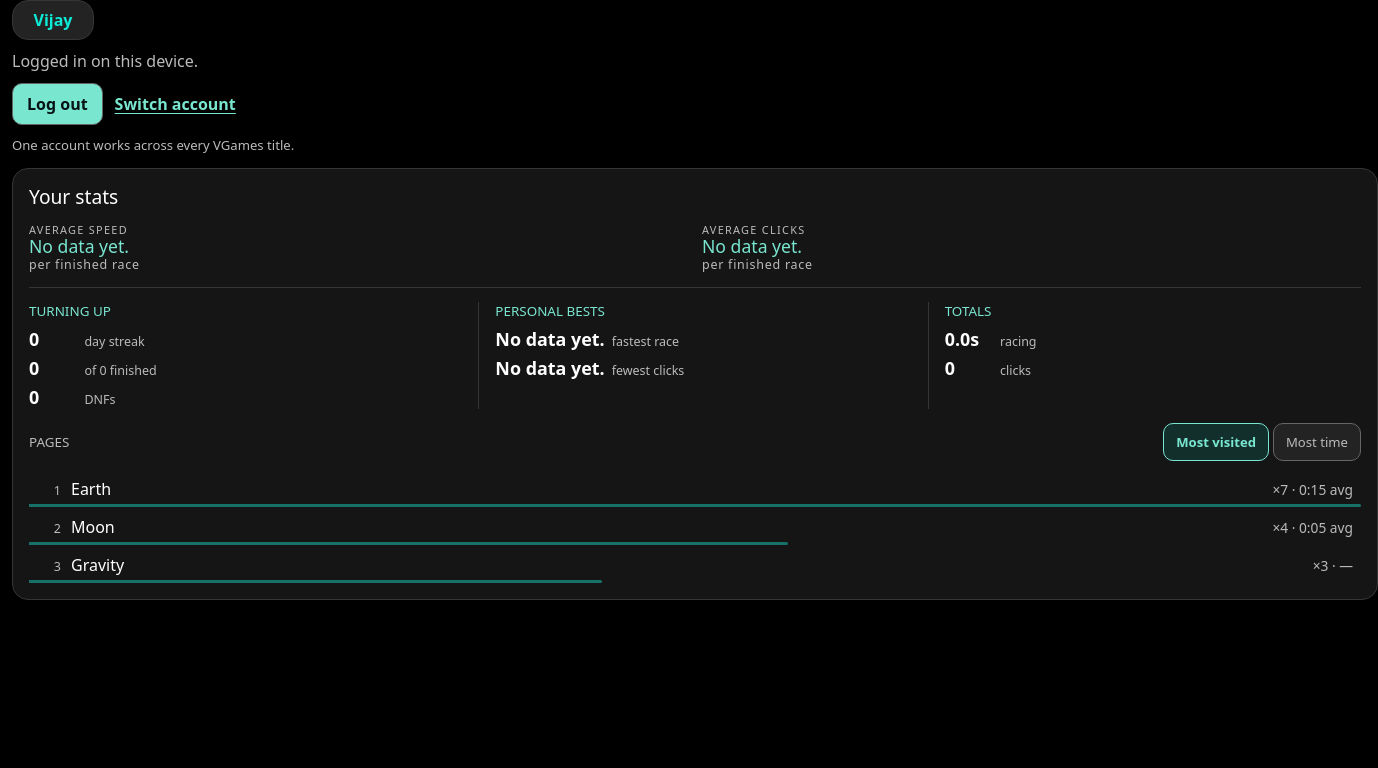
it: You: Most visited / Most time spent toggle › switches to the server's time ranking - not a re-sort of the visits list
expect the text "Supreme Court of the United States" is not shown: met
Click the tab "Most time": click(1317, 442) [1273,423,1361,461]
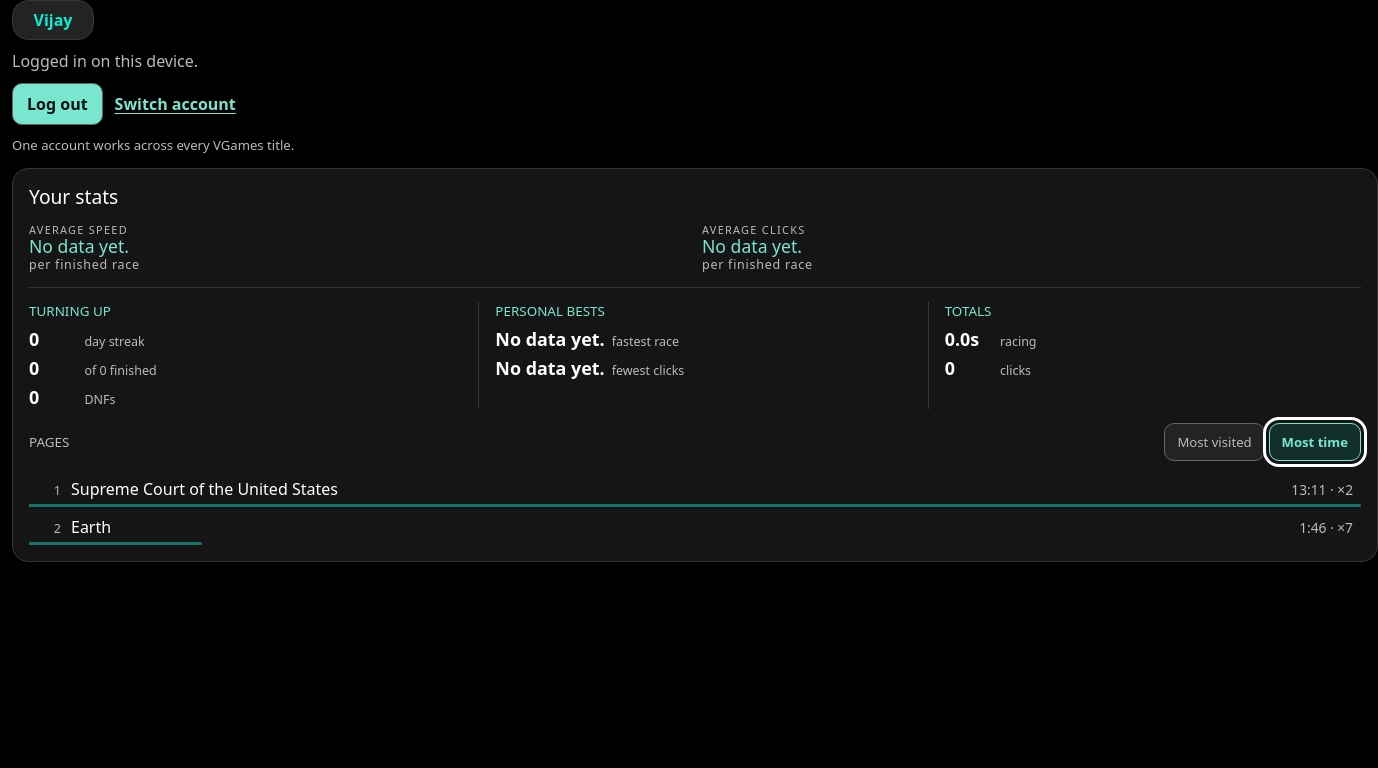
expect the text "Supreme Court of the United States" is shown: met, box [71,478,338,500]
expect the text "Moon" is gone: met
